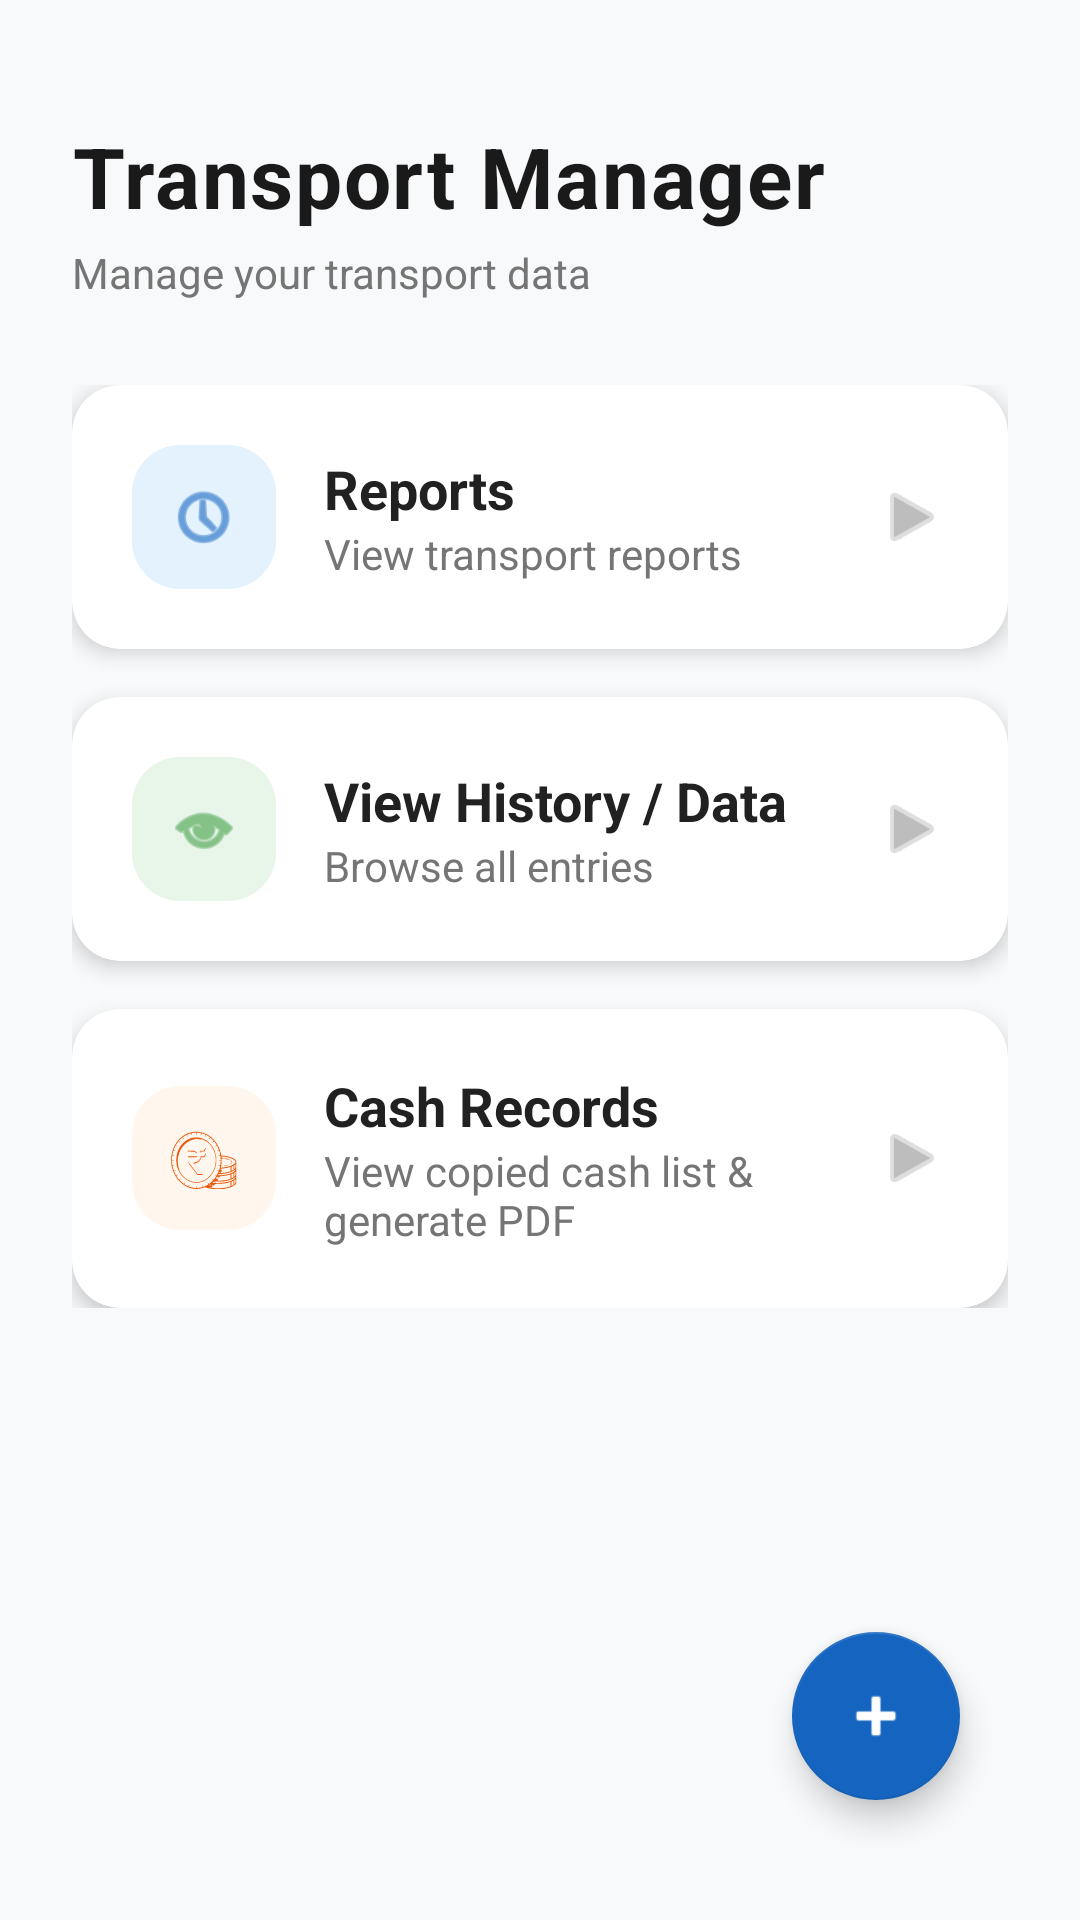

Icons on this 1080px×1920px Android screen, each with the point to tap as (x,y):
add: (876,1716)
coin: (204,1158)
play: (912,517), (912,829), (912,1158)
recent history: (204,517)
